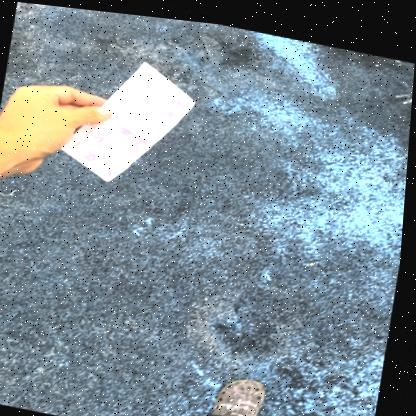one_hundred-back-vef: (58, 46, 201, 193)
